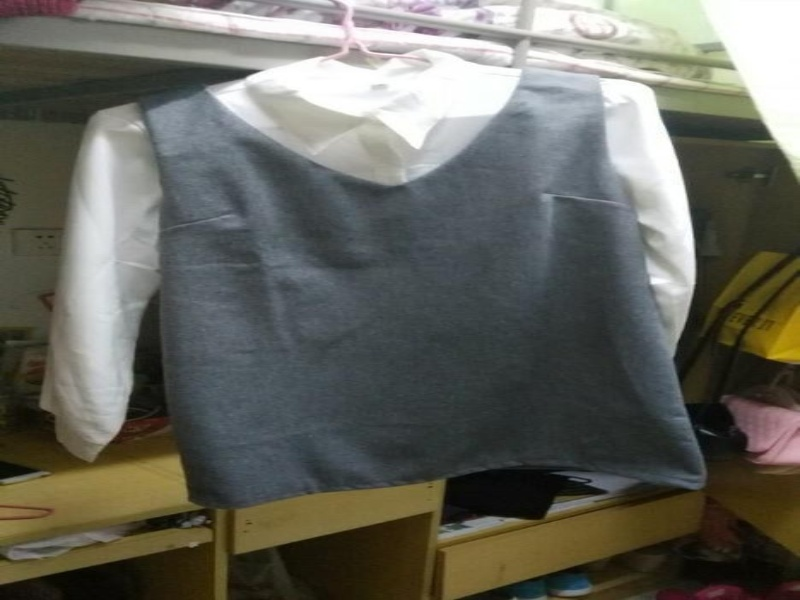long_sleeved_shirt: (27, 48, 709, 467)
vest_dress: (125, 68, 720, 514)
